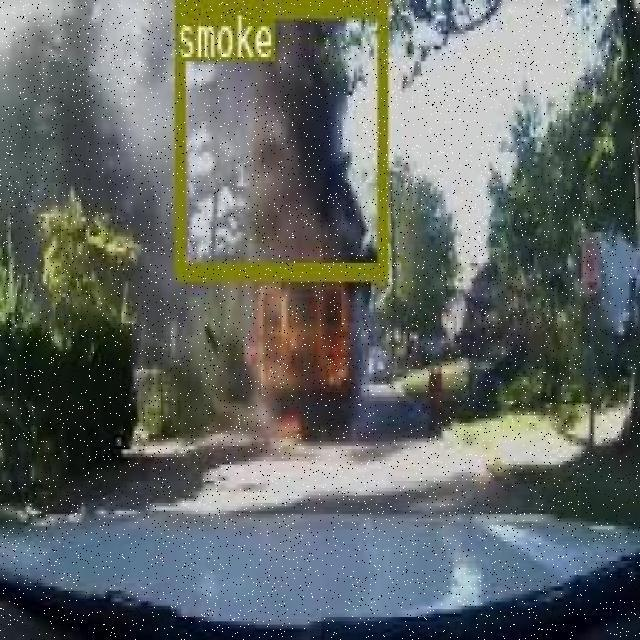smoke: (172, 0, 385, 278)
